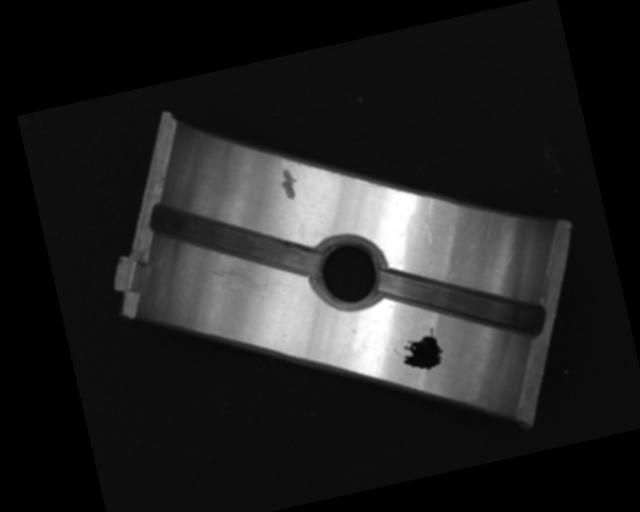blot: (391, 325, 448, 377)
bruise: (276, 166, 301, 203)
gap: (151, 176, 320, 305), (377, 244, 547, 368)
hole: (303, 230, 393, 319)
nick: (413, 197, 444, 245)
scratch: (202, 255, 277, 311)
